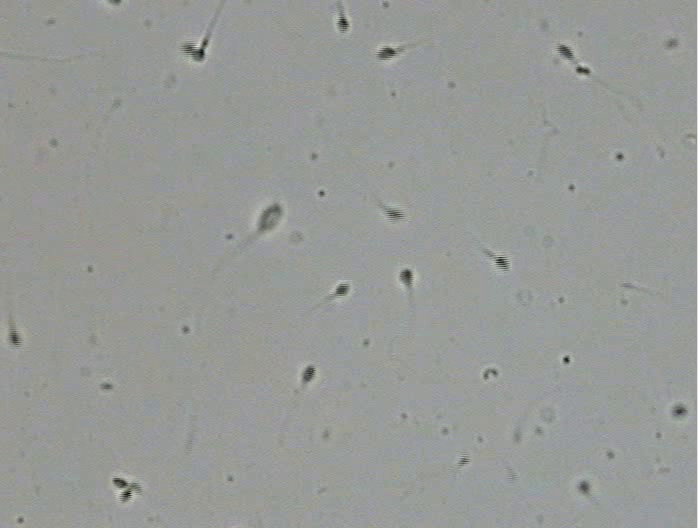S: (257, 201, 284, 232), (376, 46, 397, 60), (556, 44, 573, 61), (385, 208, 405, 222), (494, 255, 510, 271), (8, 329, 21, 348), (336, 16, 349, 34), (399, 269, 413, 285), (303, 365, 316, 382), (180, 42, 196, 54), (112, 477, 129, 488), (192, 48, 205, 61), (336, 283, 349, 296), (672, 406, 687, 417), (119, 490, 132, 502), (578, 480, 590, 493), (575, 65, 590, 75)
